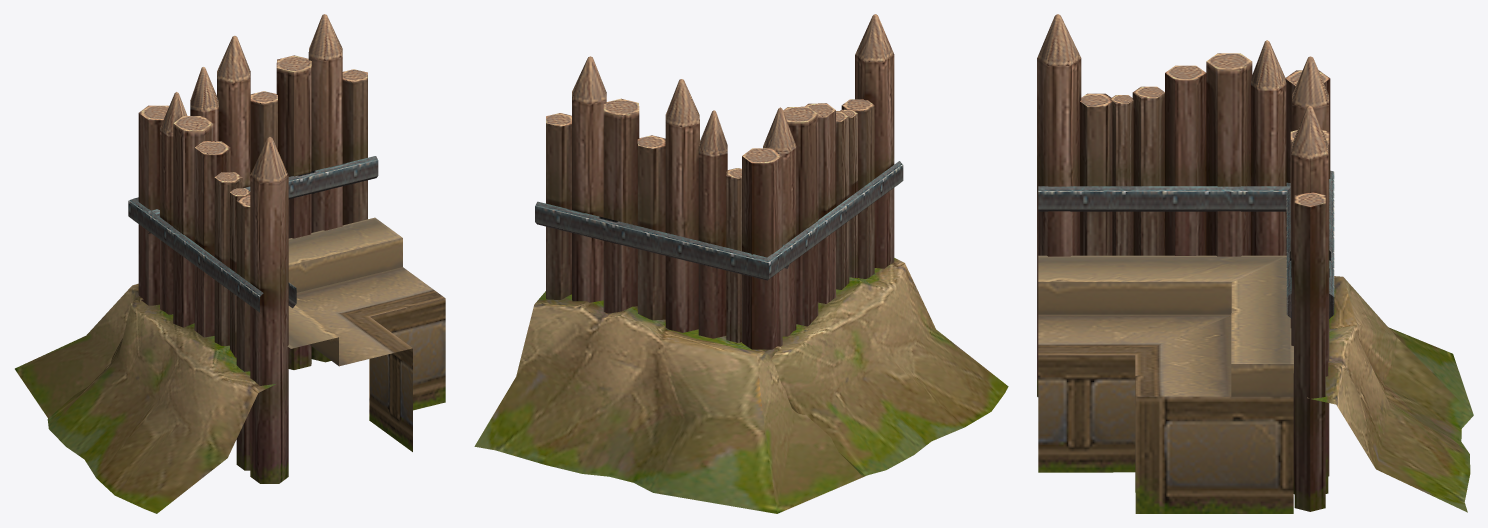
The model's file is ShiJie_ChengQiang_14.FBX.
3 views of the same model, side by side, from view 1: azimuth 30°, elevation 25°; view 2: azimuth 150°, elevation 25°; view 3: azimuth 270°, elevation 25° (orthographic). The views are drawn at different scales.
Visible parts, largest first — view 1: ShiJie_ChengQiang_14; view 2: ShiJie_ChengQiang_14; view 3: ShiJie_ChengQiang_14.
Part boxes in pixels (x1,y1,x2,y2): ShiJie_ChengQiang_14: [15, 14, 445, 513]; ShiJie_ChengQiang_14: [474, 14, 1008, 513]; ShiJie_ChengQiang_14: [1037, 14, 1473, 513].
Size of the model in its own units: 82.39 by 79.65 by 80.45.
